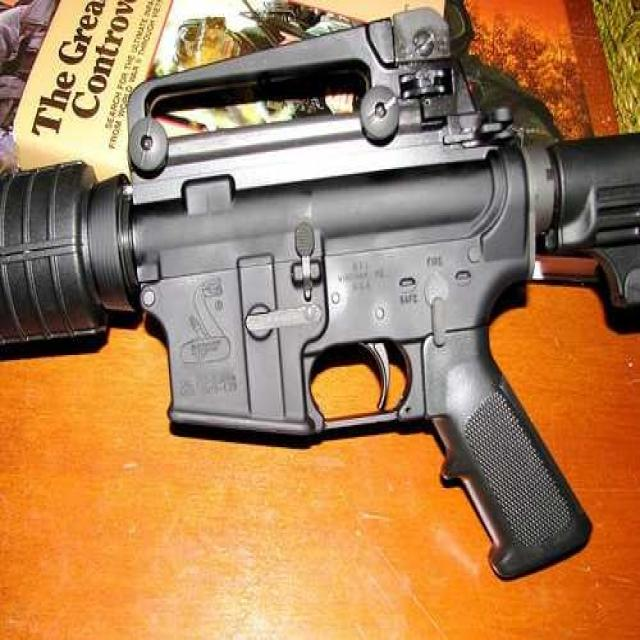heavyweapon: (2, 13, 626, 566)
